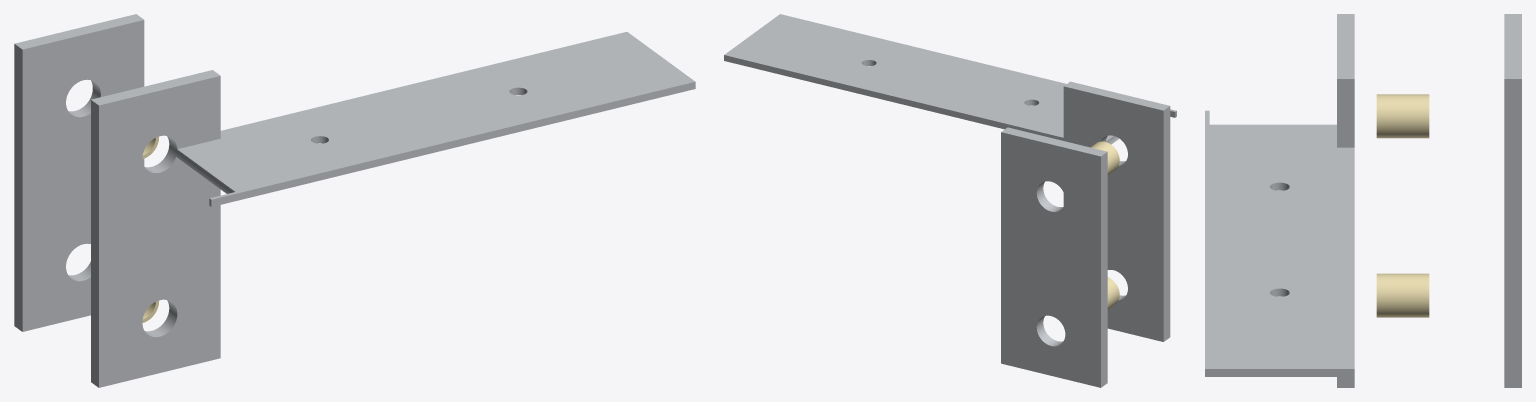
Rendered from car_B1_3.glb.
3 renders of one model, left to right at view 1: azimuth 30°, elevation 25°; view 2: azimuth 150°, elevation 25°; view 3: azimuth 270°, elevation 25°, orthographic. The views are drawn at different scales.
Parts seen in each view (by area): view 1: =>[0:1:1:5], =>[0:1:1:6]; view 2: =>[0:1:1:5], =>[0:1:1:6], =>[0:1:1:8]; view 3: =>[0:1:1:5], =>[0:1:1:6], =>[0:1:1:8], =>[0:1:1:10].
Part boxes in pixels (x1,y1,x2,y2): =>[0:1:1:5]: (91, 32, 695, 387); =>[0:1:1:6]: (14, 14, 144, 331); =>[0:1:1:5]: (724, 14, 1176, 341); =>[0:1:1:6]: (1001, 127, 1107, 387); =>[0:1:1:8]: (1090, 141, 1119, 174); =>[0:1:1:5]: (1205, 14, 1354, 387); =>[0:1:1:6]: (1504, 14, 1521, 387); =>[0:1:1:8]: (1376, 94, 1429, 138); =>[0:1:1:10]: (1376, 273, 1429, 317).
Bounding box in the file's own units: 0.308 × 0.155 × 0.144.
